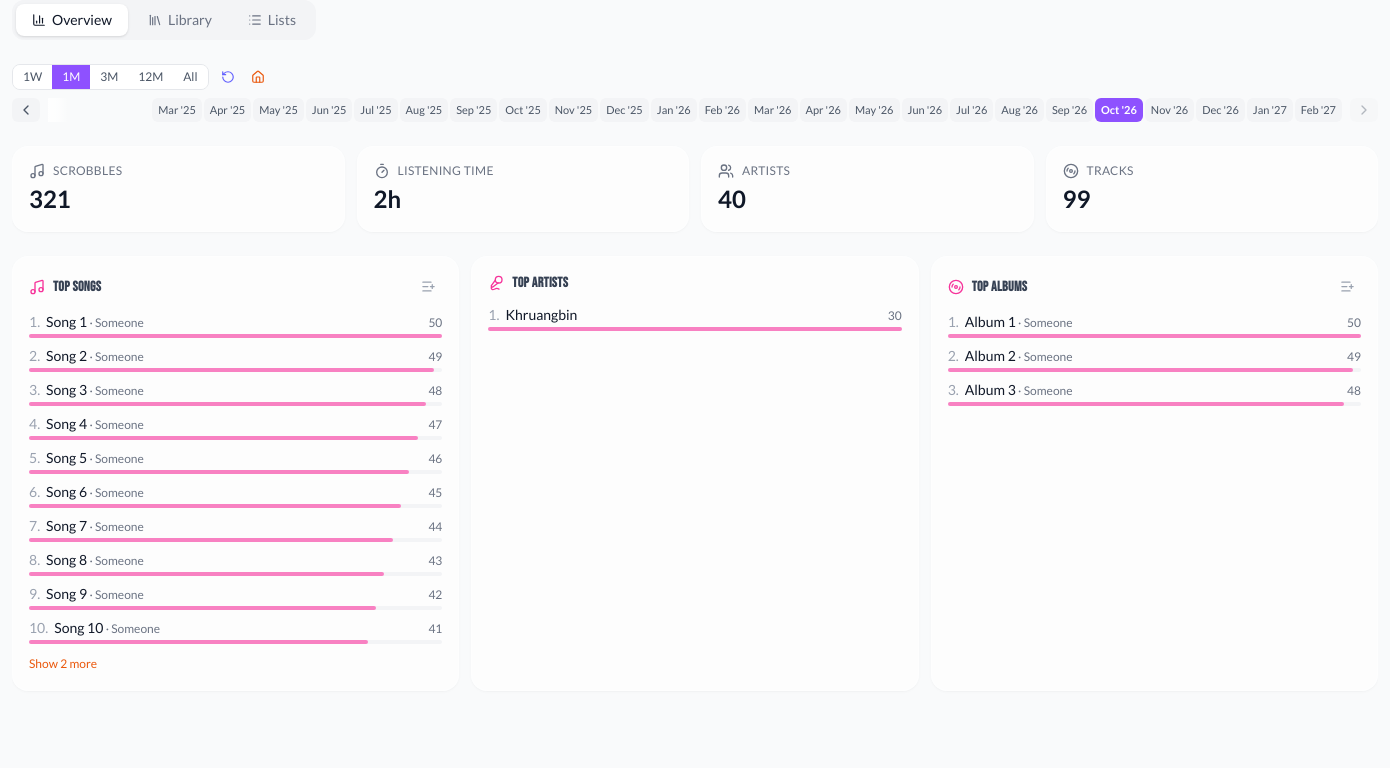
MusicTab › making a list from the top songs and albums › shows why it failed and stays put
The width and height of the screenshot is (1390, 768).
expect the link "Song 1" is shown: met, box x1=46 y1=313 x2=87 y2=330
Click the button named "Make a list from these 10 songs".
click(429, 286)  # box x1=415 y1=273 x2=442 y2=300
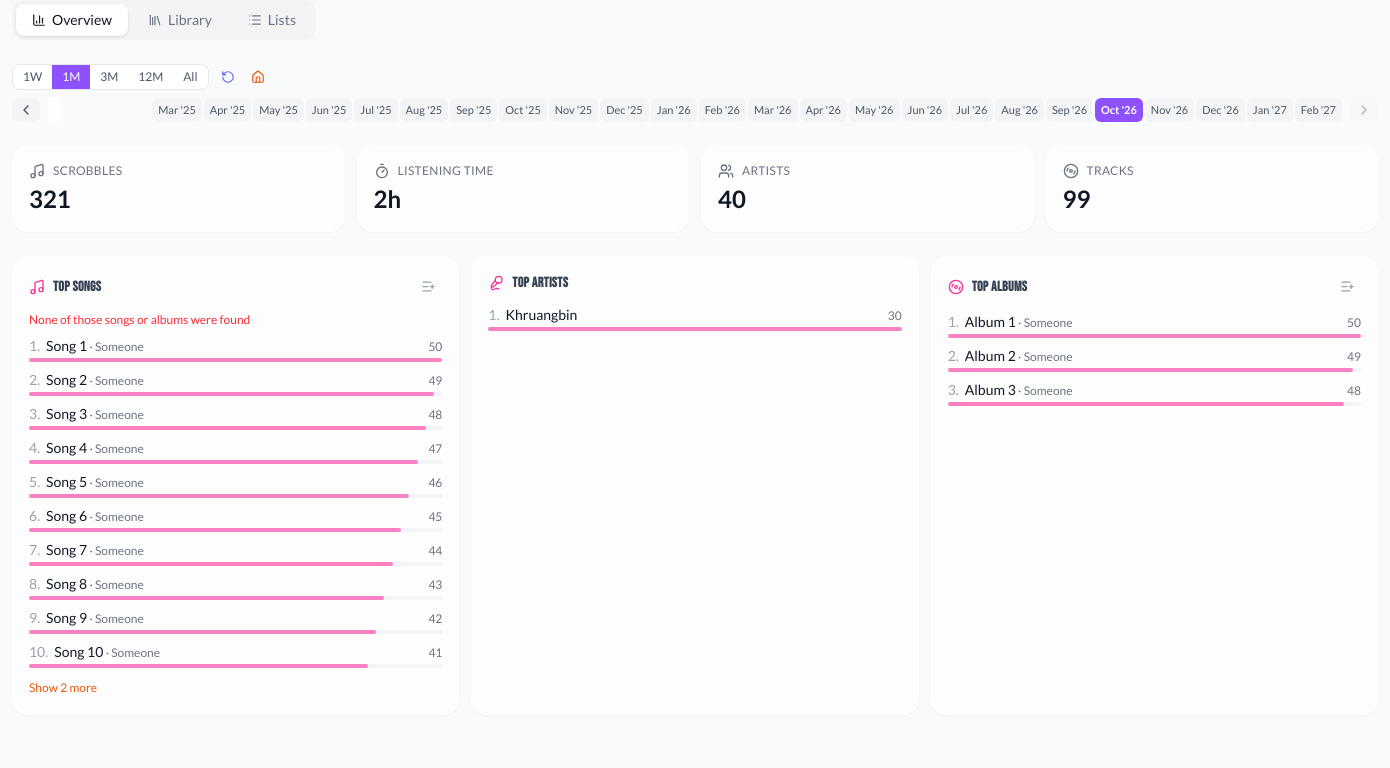
expect the text "None of those songs or albums were found" is shown: met, box x1=29 y1=312 x2=250 y2=327
